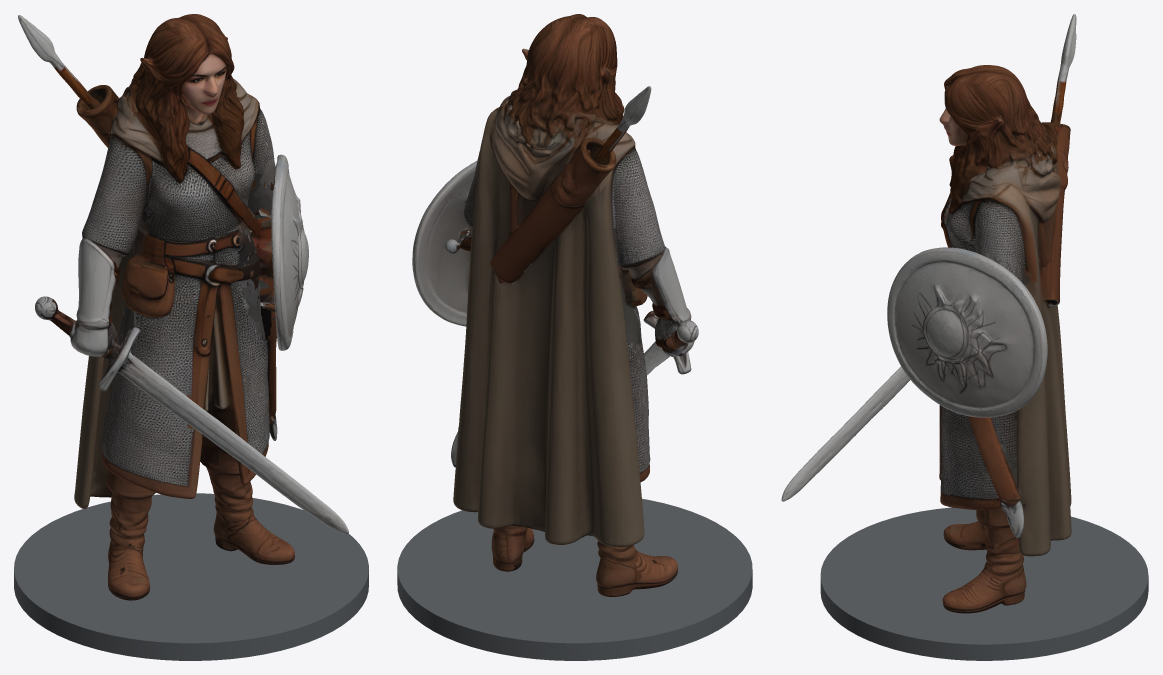
The model's file is generated-high-elf-b09ae14ee41b.glb.
3 views of the same model, side by side, from view 1: azimuth 30°, elevation 25°; view 2: azimuth 150°, elevation 25°; view 3: azimuth 270°, elevation 25° (orthographic). The views are drawn at different scales.
Parts seen in each view (by area): view 1: textured.obj, uploaded_round_base; view 2: textured.obj, uploaded_round_base; view 3: textured.obj, uploaded_round_base.
Part boxes in pixels (x1,y1,x2,y2): textured.obj: [18, 14, 348, 600]; uploaded_round_base: [14, 493, 368, 660]; textured.obj: [412, 14, 698, 596]; uploaded_round_base: [397, 499, 752, 660]; textured.obj: [781, 14, 1076, 613]; uploaded_round_base: [820, 507, 1148, 660].
Size of the model in its own units: 1 by 1.76 by 1.12.
Materials: 2 (1 with a texture image).
